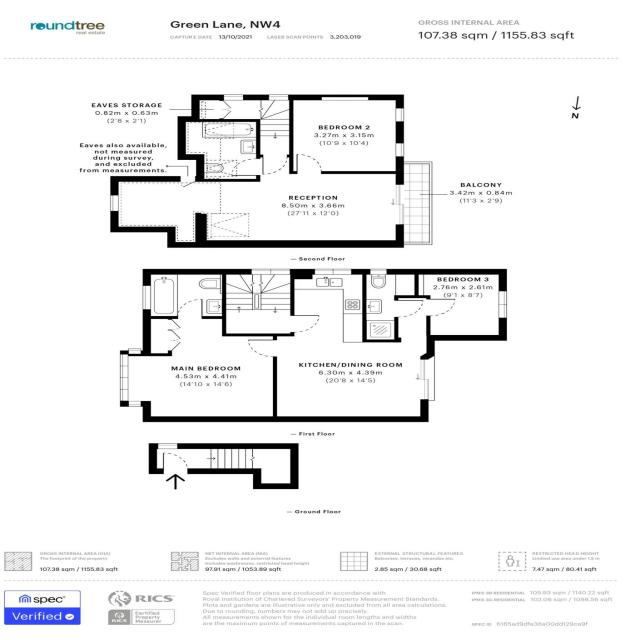DOOR: (294, 153, 325, 175), (245, 338, 278, 358), (394, 299, 425, 319), (290, 314, 321, 334), (261, 155, 290, 176), (162, 452, 189, 474), (426, 298, 456, 317), (176, 298, 203, 319)
ROOM: (245, 268, 436, 423), (110, 153, 404, 248), (121, 297, 280, 422), (289, 95, 404, 174), (416, 269, 508, 341)
WINDOW: (119, 354, 129, 402), (140, 284, 152, 311), (498, 290, 508, 319), (313, 268, 353, 275), (249, 269, 291, 275), (110, 194, 120, 212), (222, 94, 245, 101), (267, 94, 290, 101), (395, 107, 405, 123), (156, 443, 178, 450), (395, 142, 405, 157), (128, 400, 143, 407)
